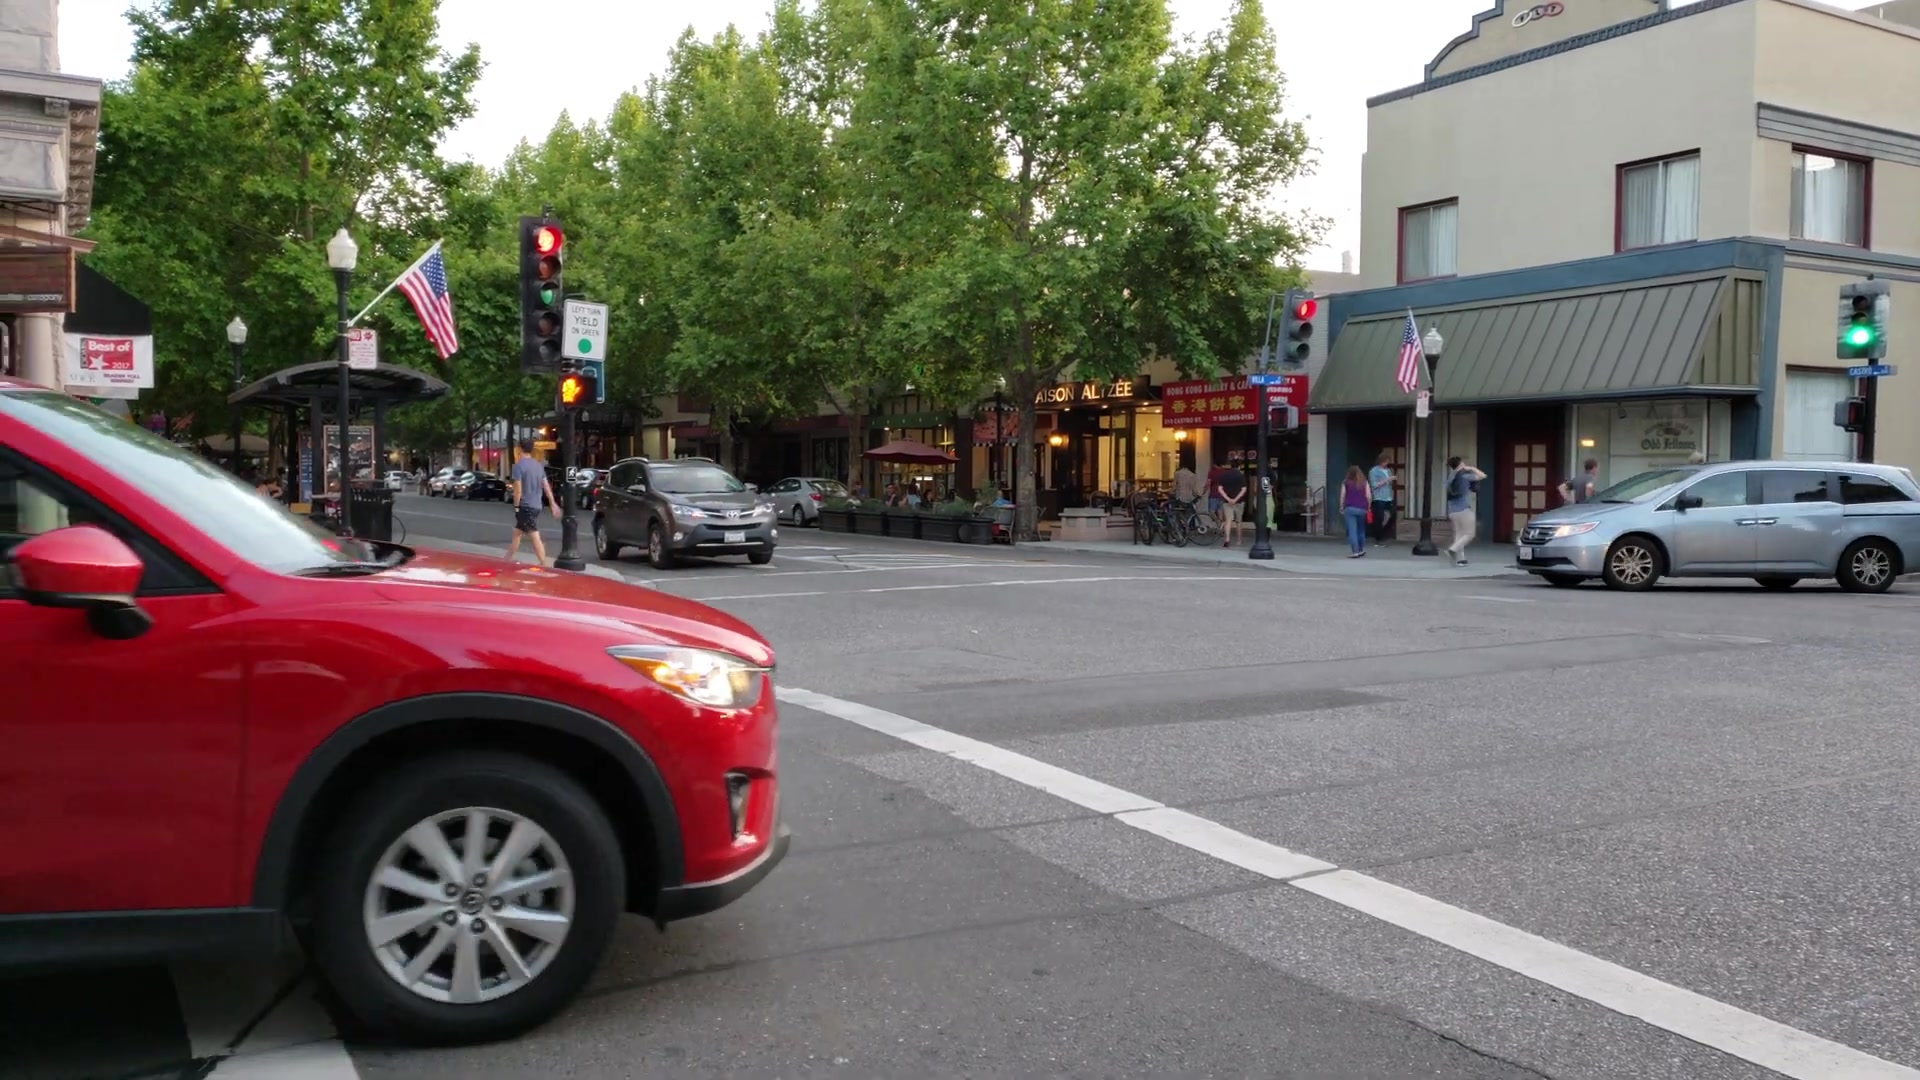vehicle: (1, 384, 785, 1042), (1514, 458, 1920, 597), (587, 454, 783, 564)
